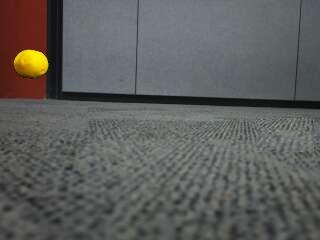Lemon: (12, 49, 50, 79)
